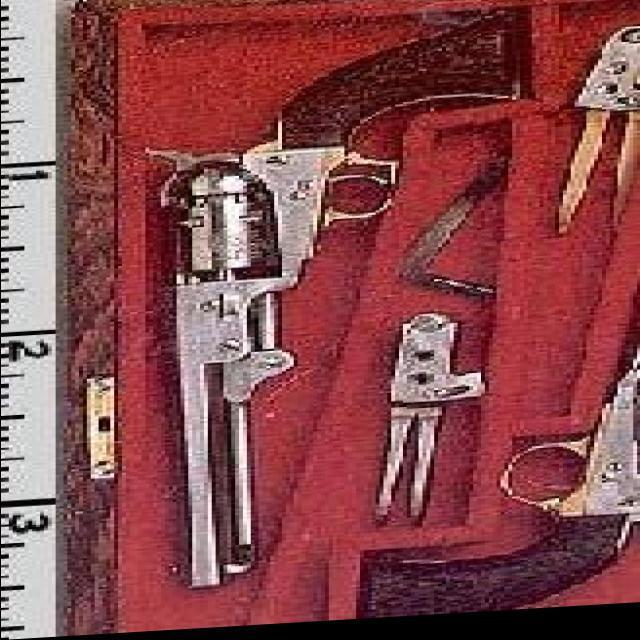handgun: (140, 10, 522, 593)
